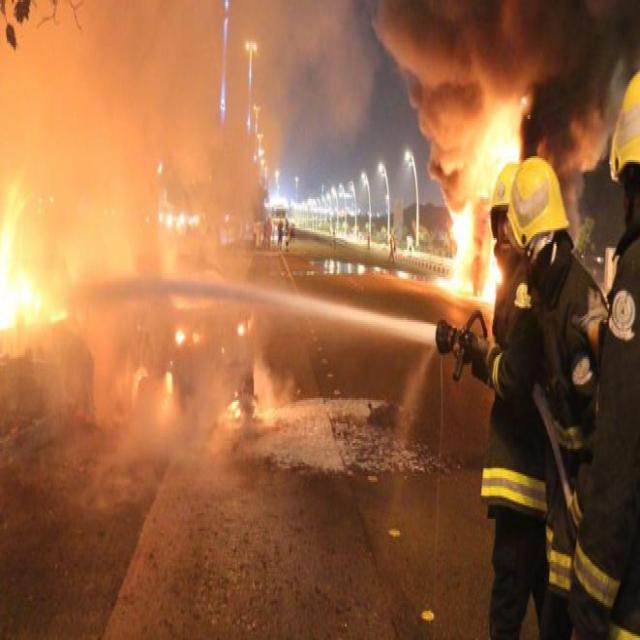fire: (449, 208, 475, 303)
smoke: (18, 38, 199, 304), (31, 325, 230, 495), (408, 5, 622, 98)
